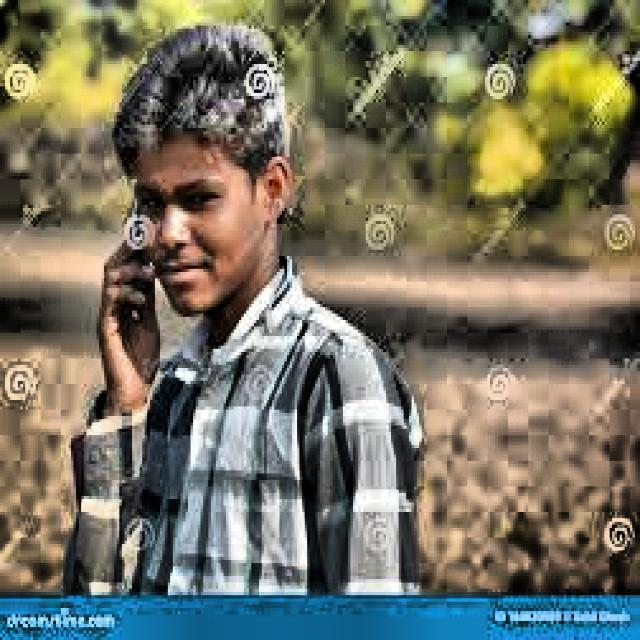Human: (62, 32, 426, 598)
